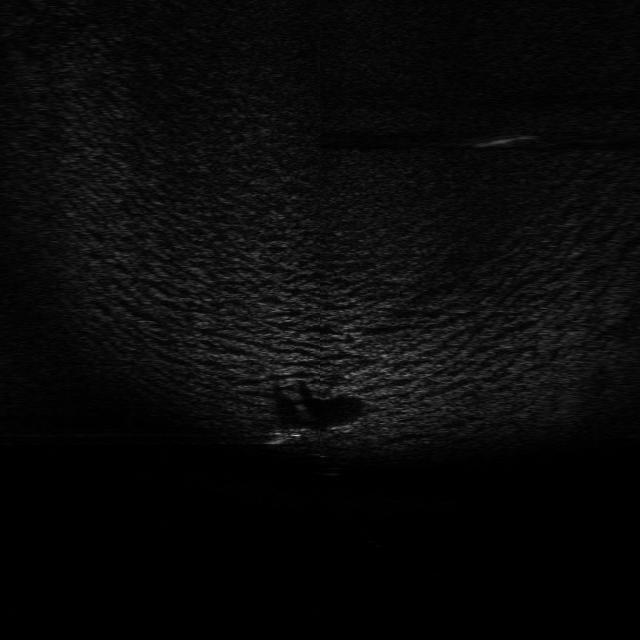plane: (261, 420, 357, 445)
